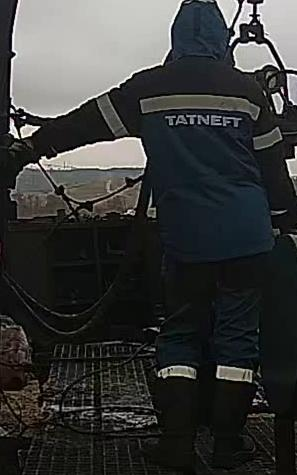gloves: (4, 129, 62, 186)
vest: (105, 61, 293, 262)
